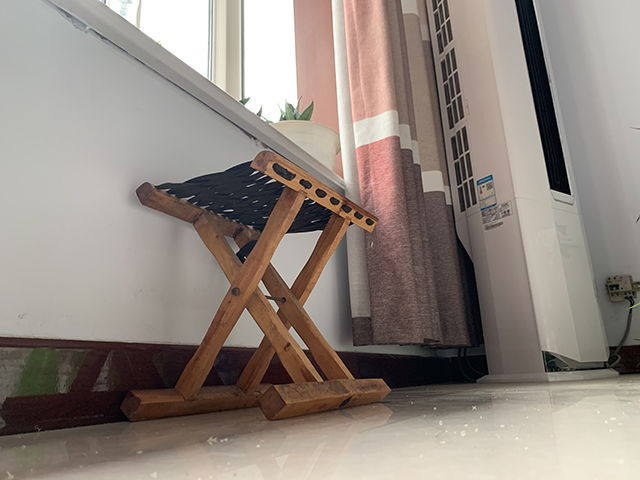curtain: (330, 1, 485, 350)
stool: (118, 148, 394, 423)
wire: (543, 294, 640, 381)
